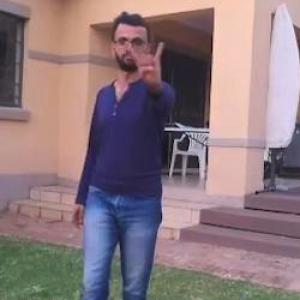takeoff-hand: (122, 35, 170, 95)
